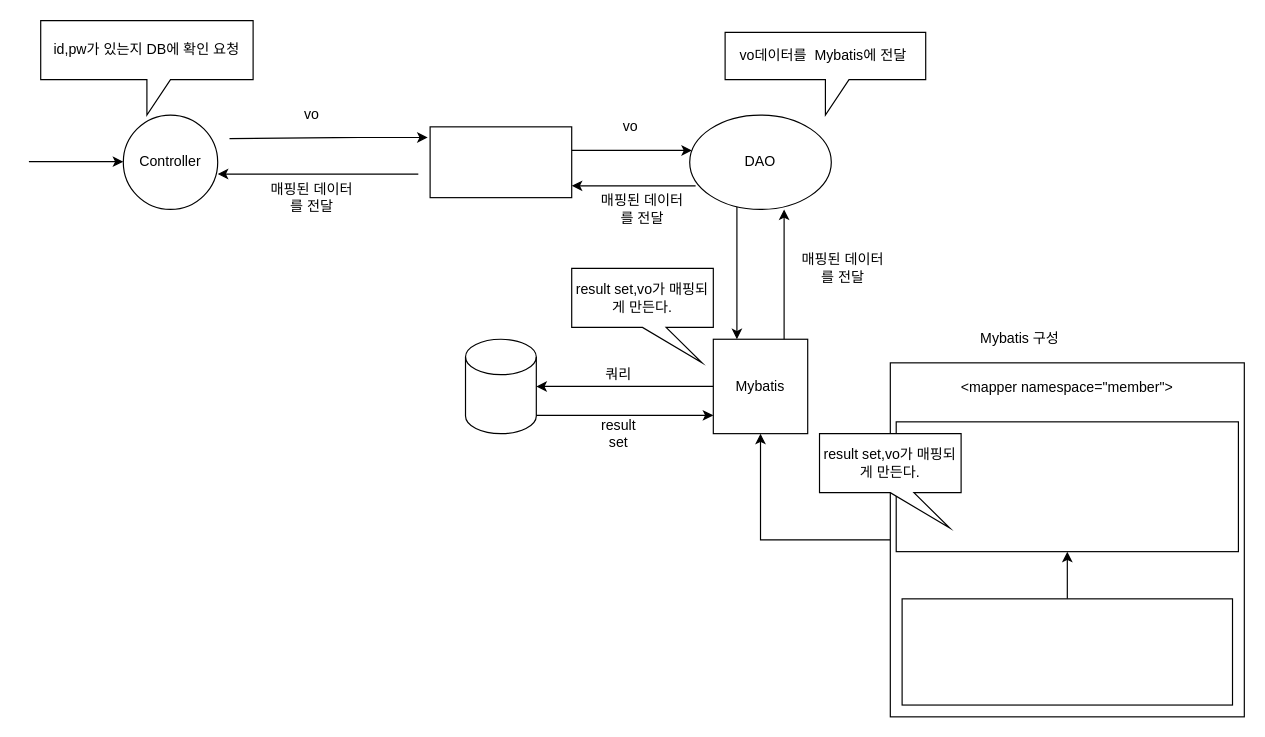
Some shapes in this 1265 by 737 pixel diagram are drawn without their labels. Each missing label, with the centre of its shape:
<resultMap id="memberMap" type="web.as.vo.memberVO">: the point at 1066,486
<select id="selectMemberList" resultMap="memberMap">: the point at 1067,651
MySQL: the point at 500,386
Service: the point at 500,162
